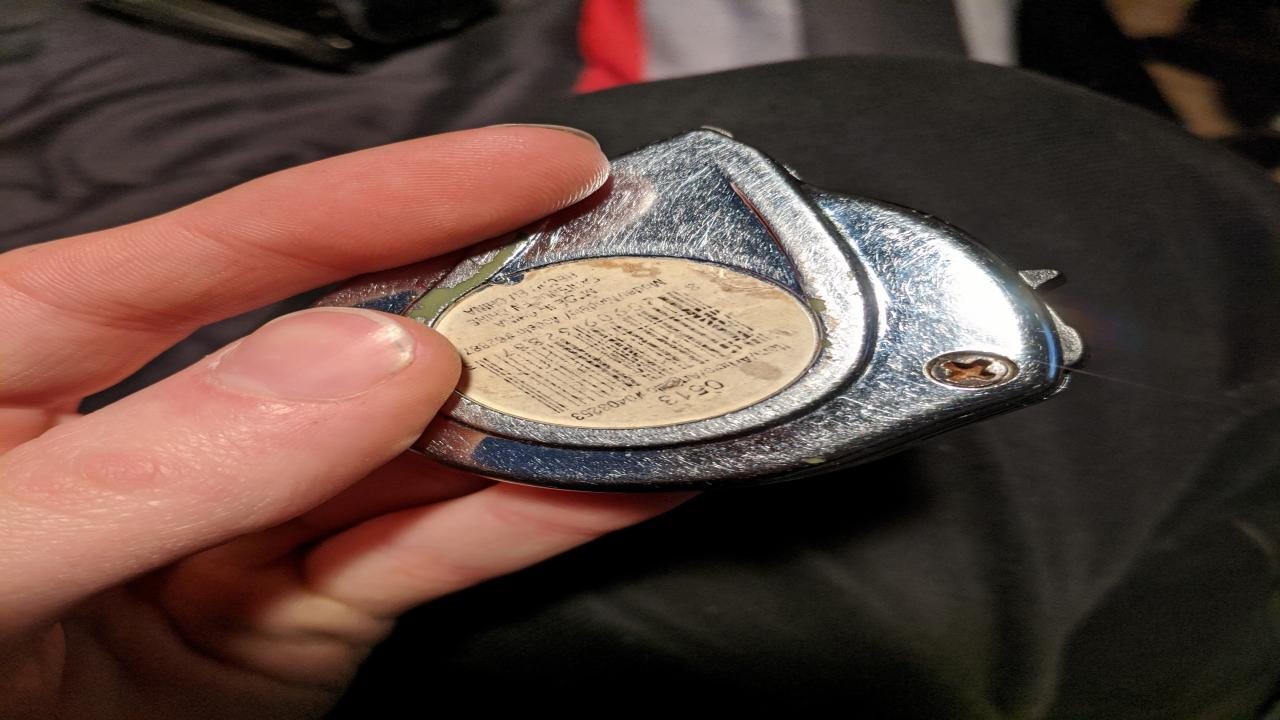CRS: (928, 349, 1027, 388)
